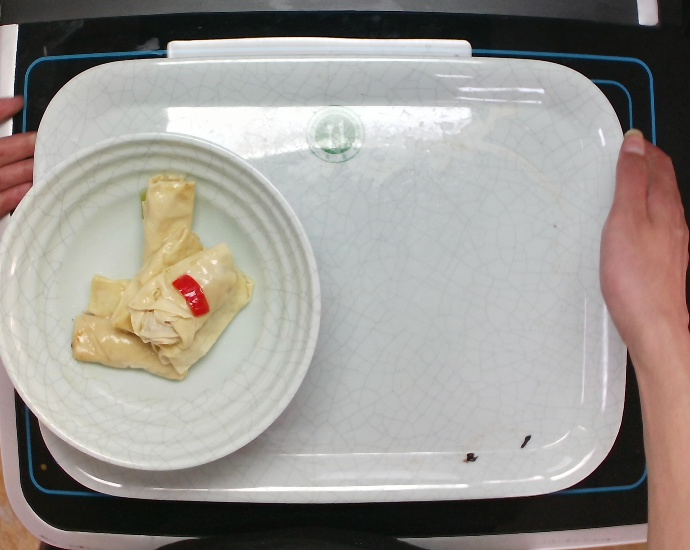JYsf-Da_Tang_Wan: (1, 131, 323, 477)
